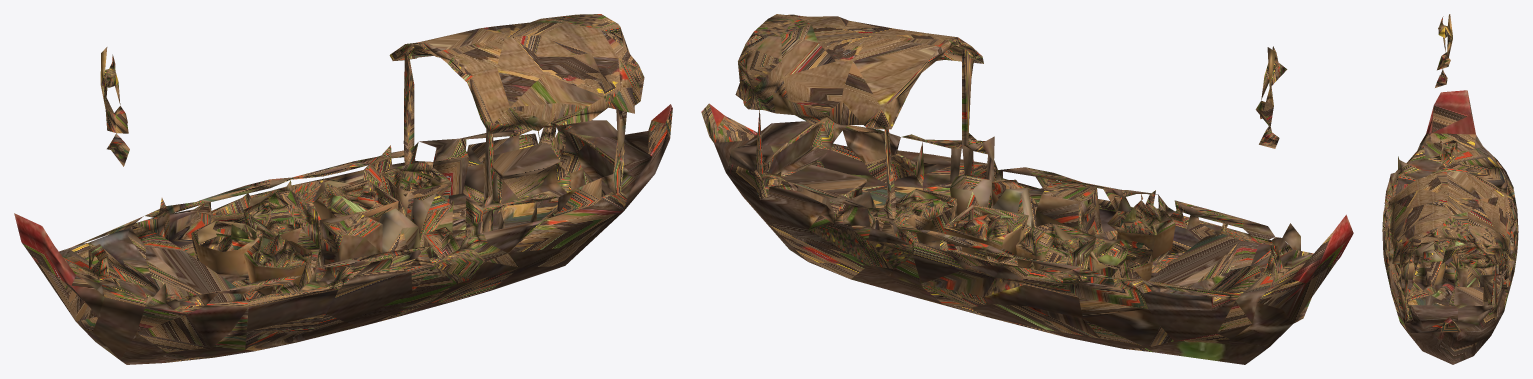
File: ghe-cho-noi.glb
The picture shows the model from 3 angles, left to right: view 1: azimuth 30°, elevation 25°; view 2: azimuth 150°, elevation 25°; view 3: azimuth 270°, elevation 25°; orthographic projection. The views are drawn at different scales.
Bounding box in the file's own units: 0.9959 × 0.4782 × 0.281.
1 material, 1 textured.
